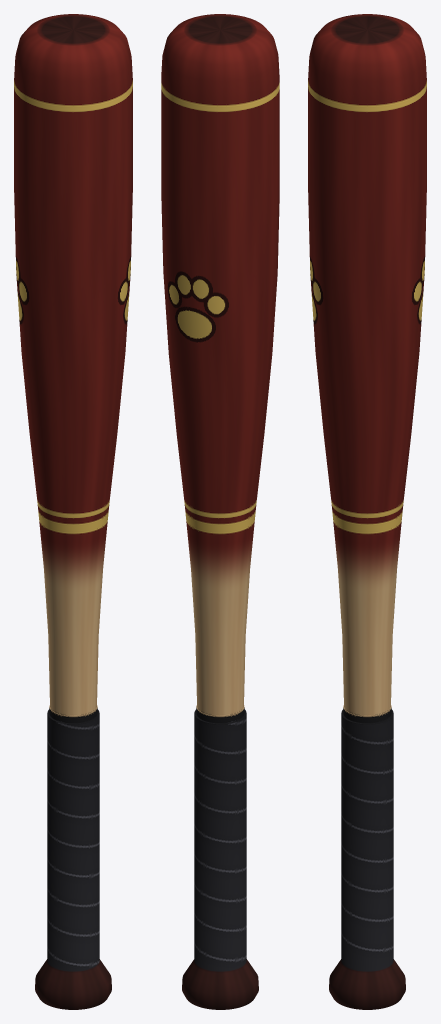
Rendered from Bat.fbx.
The picture shows the model from 3 angles, left to right: view 1: azimuth 90°, elevation 25°; view 2: azimuth 150°, elevation 25°; view 3: azimuth 270°, elevation 25°; orthographic projection.
Parts seen in each view (by area): view 1: Bat; view 2: Bat; view 3: Bat.
Part boxes in pixels (left/top/right/bottom): Bat: left=14, top=14, right=132, bottom=1009; Bat: left=161, top=14, right=279, bottom=1009; Bat: left=308, top=14, right=426, bottom=1009.
Size of the model in its own units: 0.4 by 3.6 by 0.4.
1 material, 1 textured.
